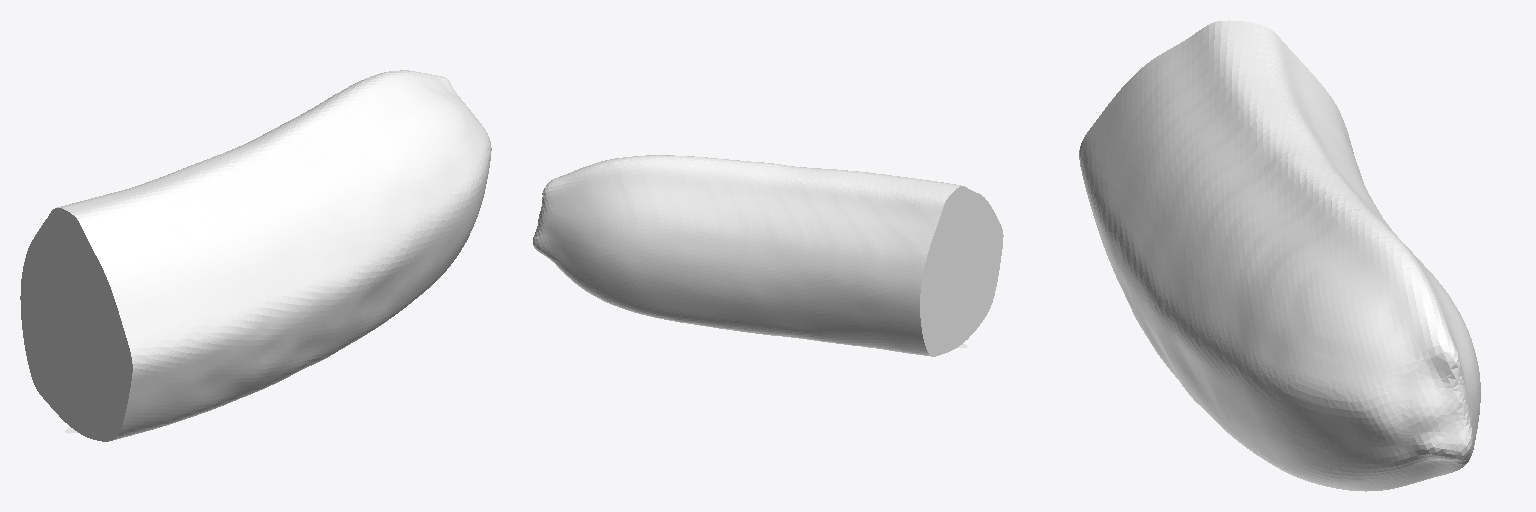
URDF robot description (cube.urdf):
<?xml version="0.0" ?>
<robot name="cube.urdf">
  <link name="baseLink">
    <contact>
      <lateral_friction value="0.3"/>
      <stiffness value="10000.0"/>
    </contact>
    <inertial>
      <origin rpy="0 0 0" xyz="0 0 0"/>
       <mass value="0.1"/>
       <inertia ixx="1" ixy="0" ixz="0" iyy="1" iyz="0" izz="1"/>
    </inertial>
    <visual>
      <origin rpy="0 0 0" xyz="0 0 0"/>
      <geometry>
            <mesh filename="banana_left.stl" scale="0.001 0.001 0.001"/>
      </geometry>
       <material name="white">
        <color rgba="1 1 1 1"/>
      </material>
    </visual>
    <collision>
      <origin rpy="0 0 0" xyz="0 0 0"/>
      <geometry>
	 	<mesh filename="banana_left.stl" scale="0.001 0.001 0.001"/>
      </geometry>
    </collision>
  </link>  
</robot>

--- What the picture shows (computed from the rendered views, not written in the file) ---
The picture shows the robot from 3 angles, left to right: view 1: azimuth 30°, elevation 25°; view 2: azimuth 150°, elevation 25°; view 3: azimuth 270°, elevation 25°; orthographic projection.
Robot: cube.urdf — 1 links, 0 joints (none); root link baseLink; default pose: every joint at zero.
Links seen in each view (by area): view 1: baseLink; view 2: baseLink; view 3: baseLink.
Boxes of the visible links, <box> form: baseLink: <box>20,70,491,441</box>; baseLink: <box>533,155,1003,356</box>; baseLink: <box>1079,20,1480,491</box>.
Size in the robot's own frame: 0.0718 by 0.0414 by 0.0303 metres.
1 mesh visuals loaded from 1 distinct referenced files (1 binary STL).